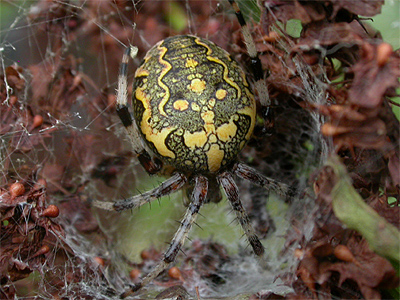spider: (97, 6, 313, 281)
